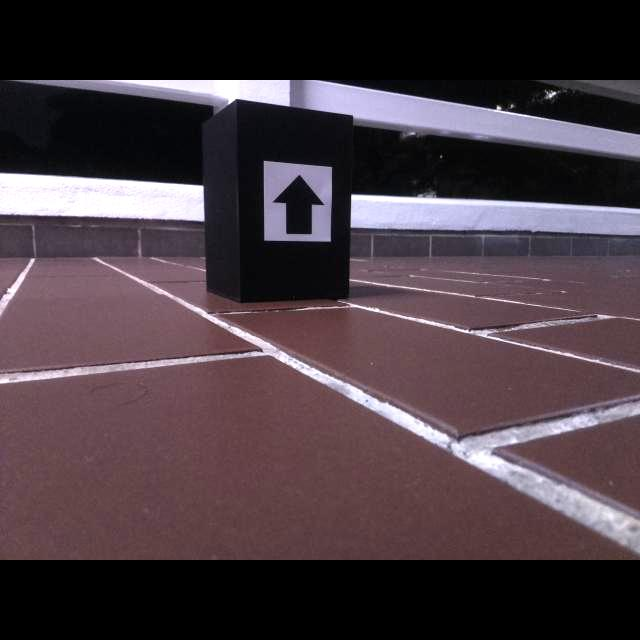UP: (272, 174, 325, 235)
